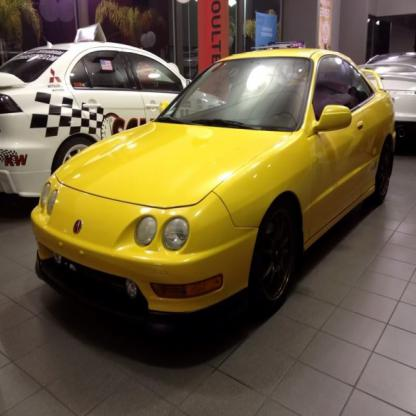Vehicle: (30, 50, 397, 367)
